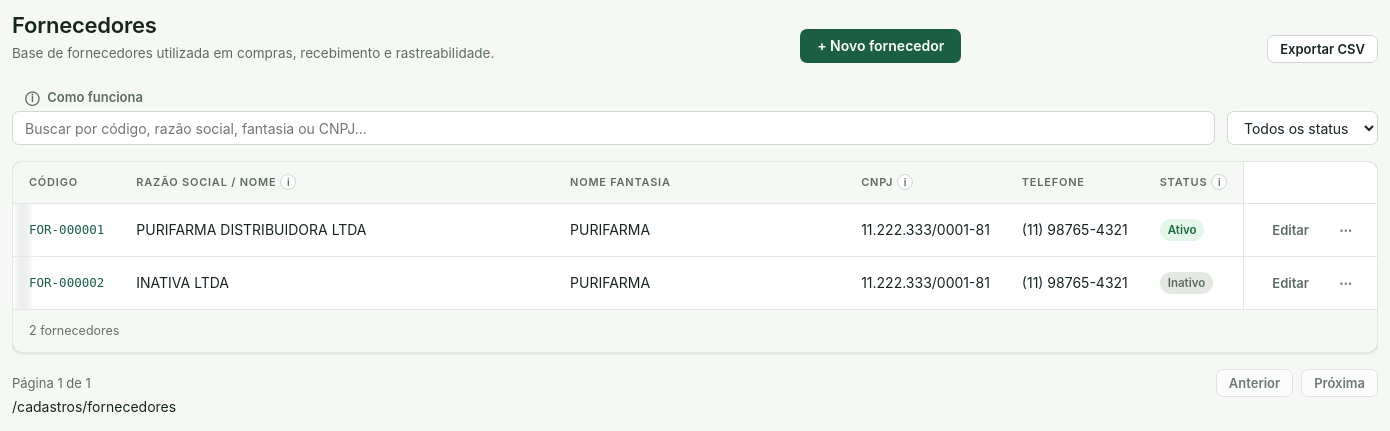
Test: MASTER-DATA-EDIT-PERMISSIONS-01 — Compras e Administrador mantêm o Fornecedor › PURCHASING: + Novo fornecedor, Editar e Inativar/Reativar
Expected: the text "FOR-000001" is shown, [13, 204, 120, 256]
Expected: the number of buttons "Editar" is 2, [1259, 216, 1322, 244]; [1259, 269, 1322, 297]
Click the button named "Mais ações de FOR-000001". click: (1346, 230)
box: [1330, 216, 1361, 244]
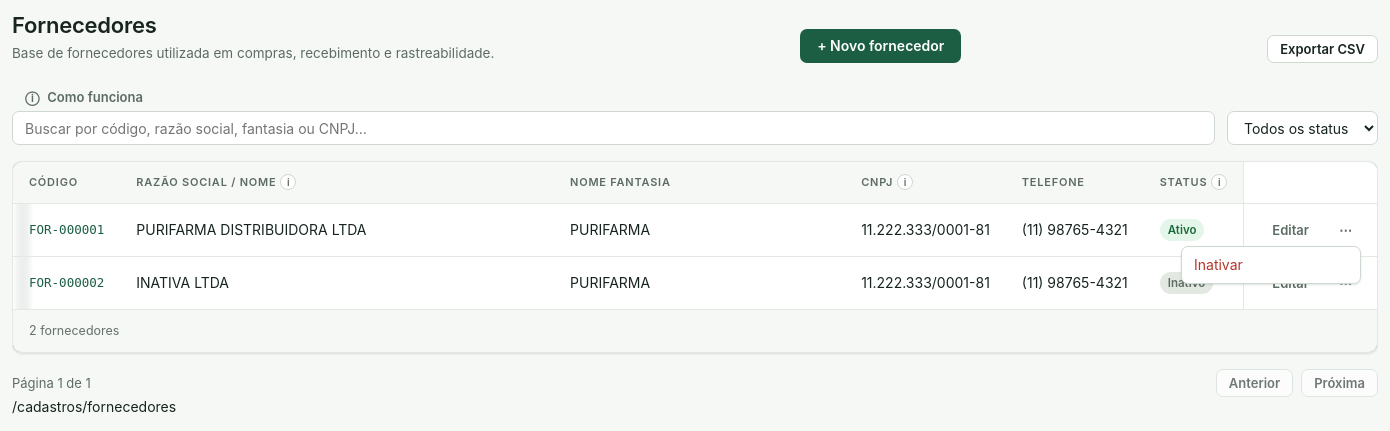
Result: the menu item "Inativar" is shown at [1182, 247, 1360, 283]
Click the button named "Mais ações de FOR-000001". click: (1346, 230)
box: [1330, 216, 1361, 244]
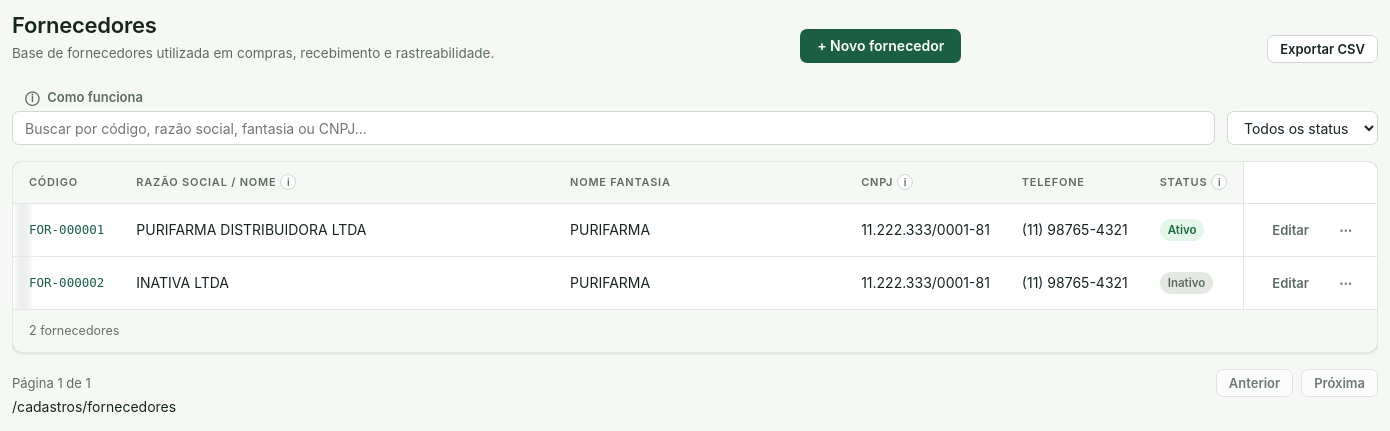
Click the button named "Mais ações de FOR-000002". click: (1346, 283)
box: [1330, 269, 1361, 297]
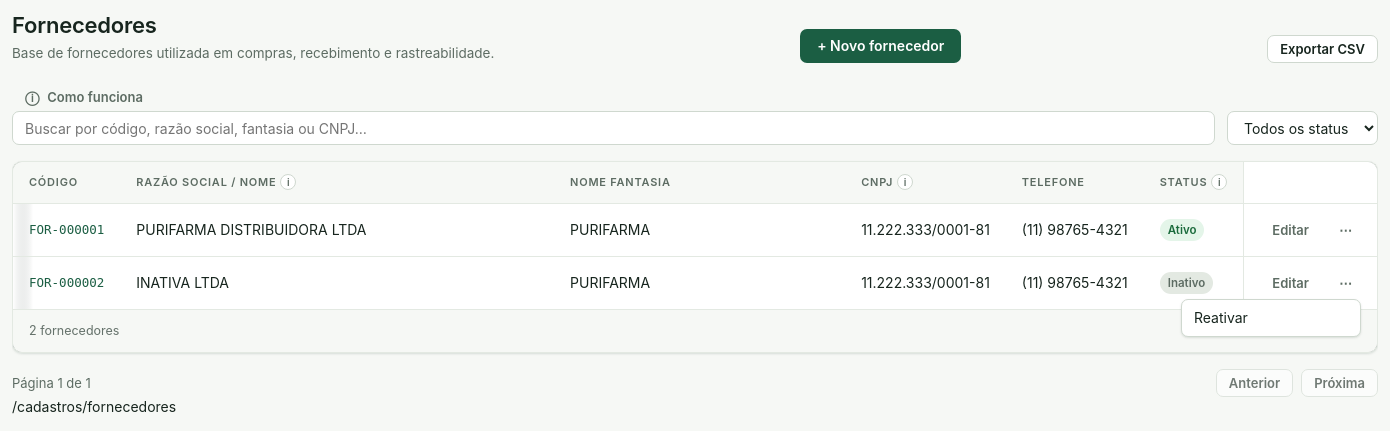
Result: the menu item "Reativar" is shown at [1182, 300, 1360, 336]
